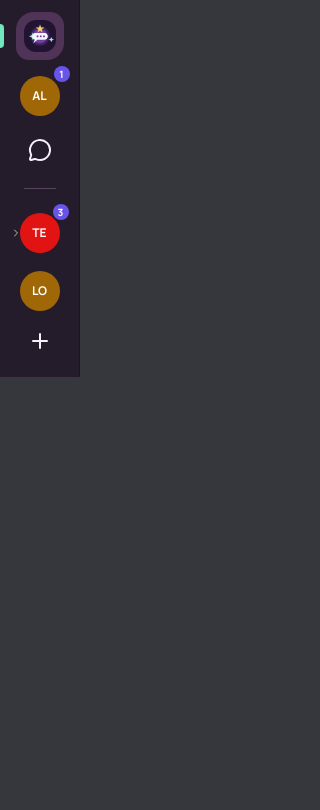
Scenario: SpaceRail › surfaces a visible error when removing a space child fails instead of failing silently
The width and height of the screenshot is (320, 810).
Click the button named "Expand Team" at (16, 233), box [8,225,24,241]
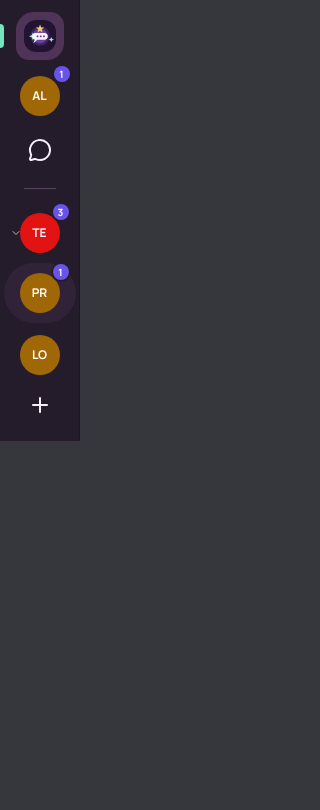
Right-click the button "PR 1" at (40, 293), box [14,267,66,319]
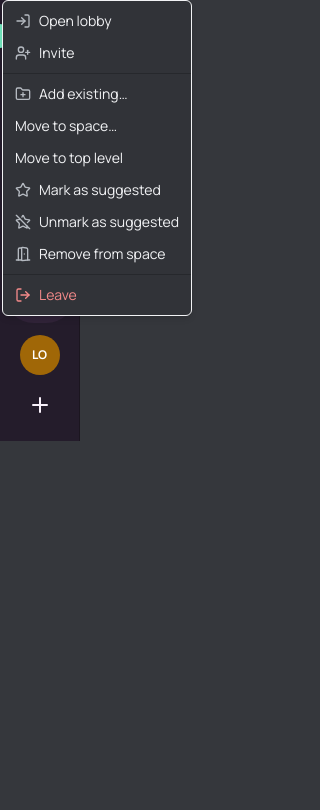
Click the menu item "Remove from space" at (90, 254), box [15,244,165,263]
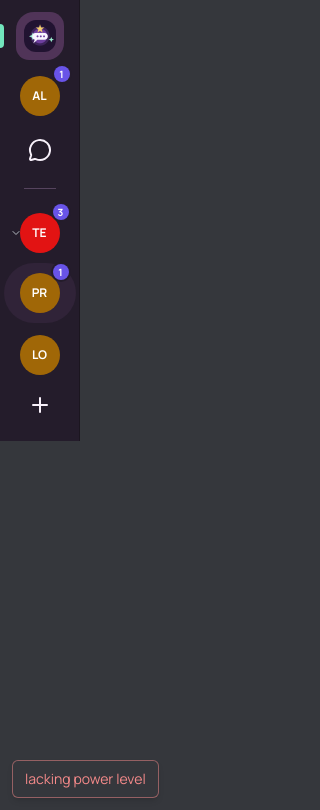
Now the message reads "lacking power level", box [25,769,146,788]
